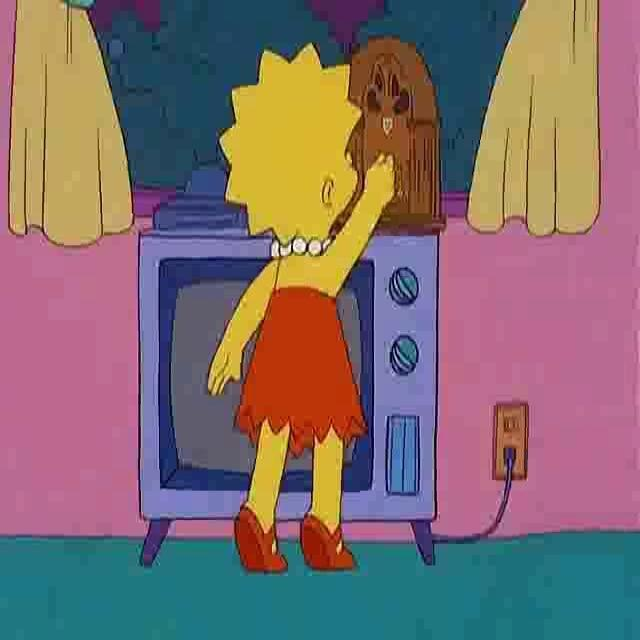Lisa Simpson: (220, 41, 366, 260)
